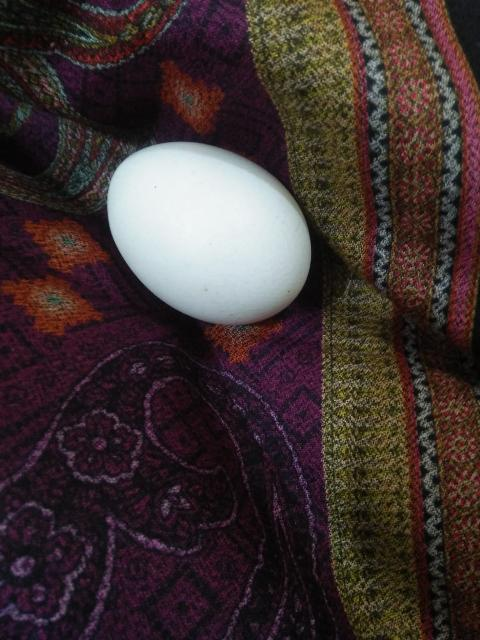Sano: (108, 141, 311, 327)
